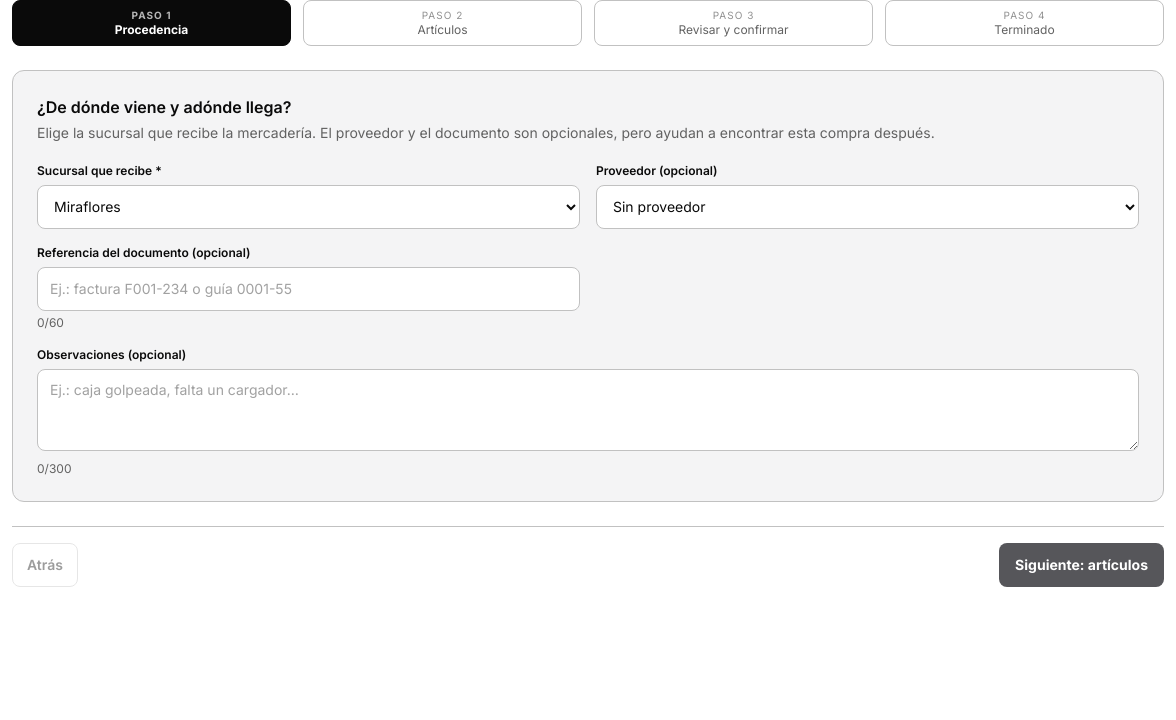
Scenario: paso 2 · Artículos › un producto por cantidad abre un contador con botones grandes
Click the button "Siguiente: artículos" at (1082, 564), box x1=999 y1=542 x2=1164 y2=586
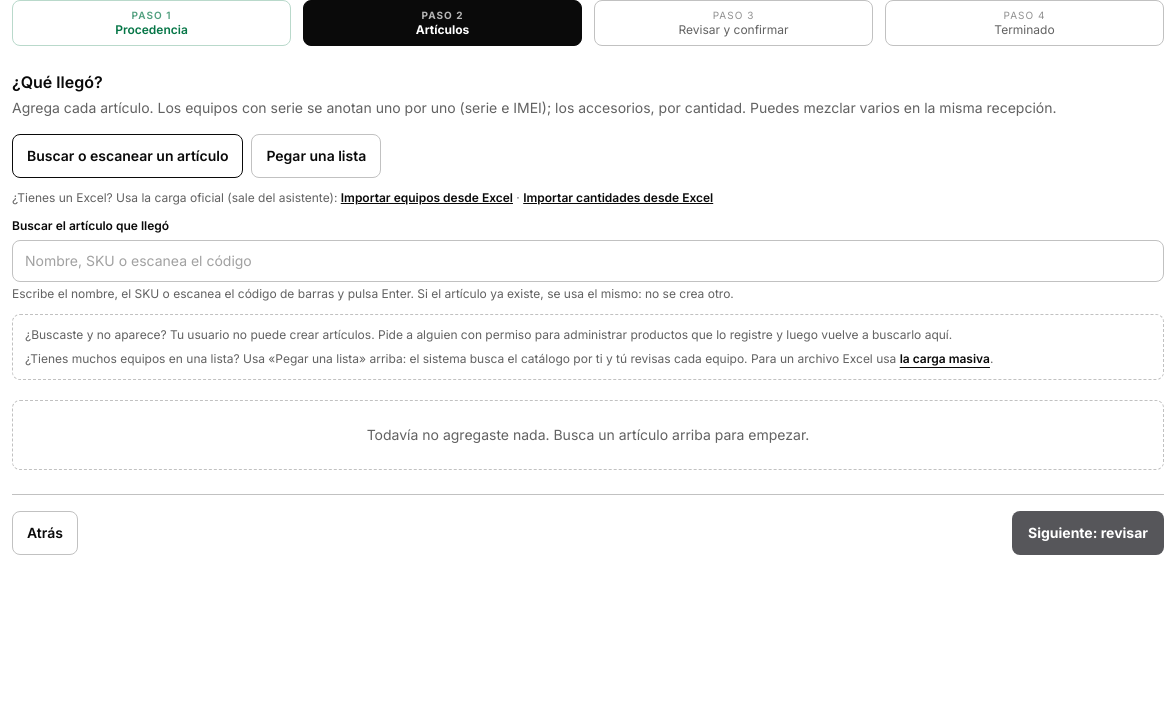
Now the heading "¿Qué llegó?" is shown, box x1=12 y1=72 x2=103 y2=92
Type "Cabl" into the dropdown labelled "Buscar el artículo que llegó" at (588, 260), box x1=12 y1=240 x2=1164 y2=282
Then press Enter
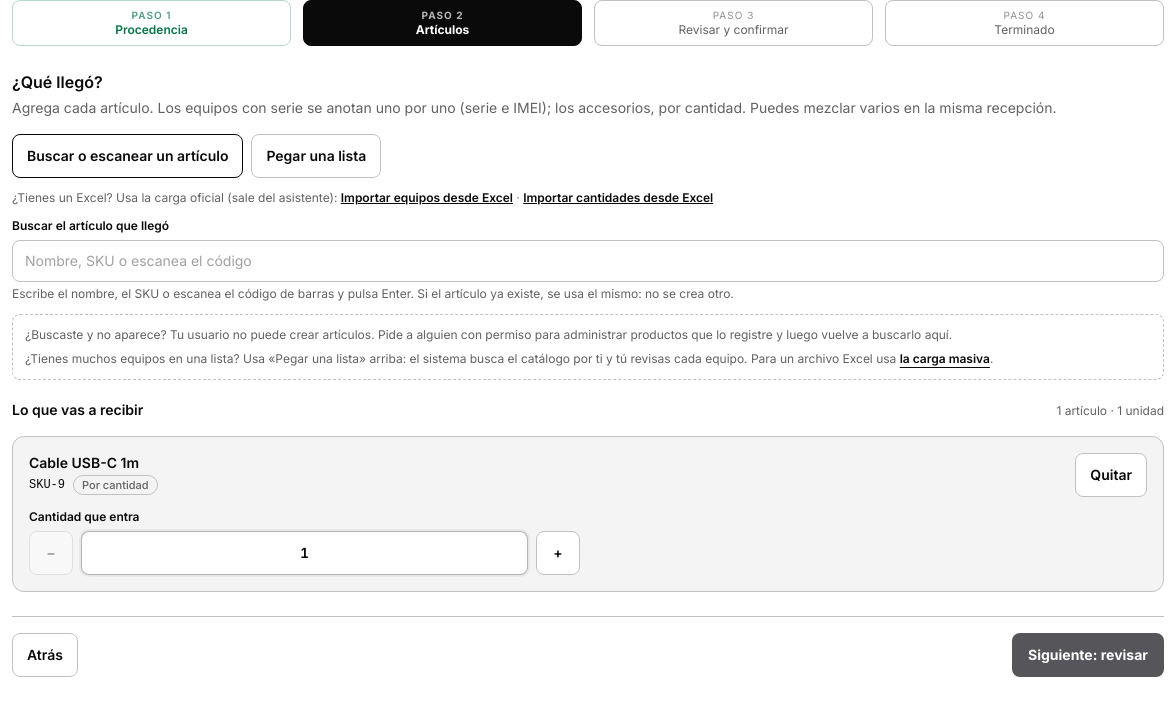
Now the element "Cable USB-C 1m" is shown, box x1=12 y1=436 x2=1164 y2=592
Now the field named "Cantidad" holds "1", box x1=81 y1=530 x2=528 y2=574
Click the button named "Una unidad más" at (558, 552), box x1=536 y1=530 x2=580 y2=574
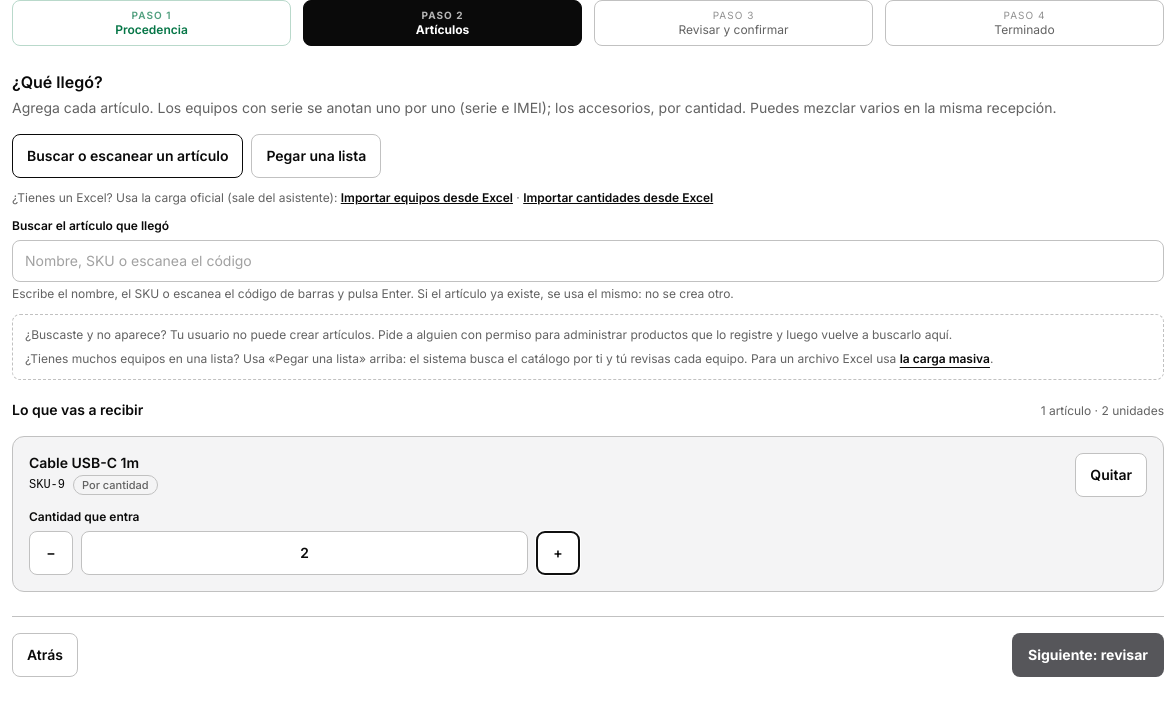
Click the button named "Una unidad más" at (558, 552), box x1=536 y1=530 x2=580 y2=574
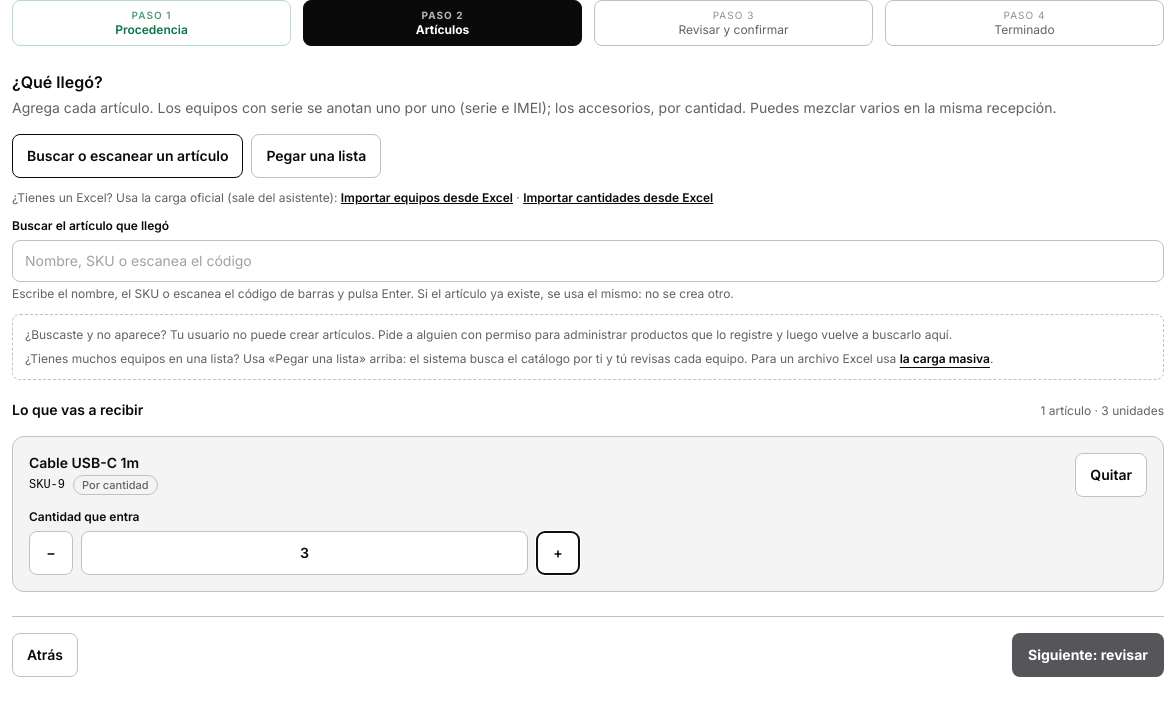
Now the field named "Cantidad" holds "3", box x1=81 y1=530 x2=528 y2=574
Click the button named "Una unidad menos" at (51, 552), box x1=29 y1=530 x2=73 y2=574
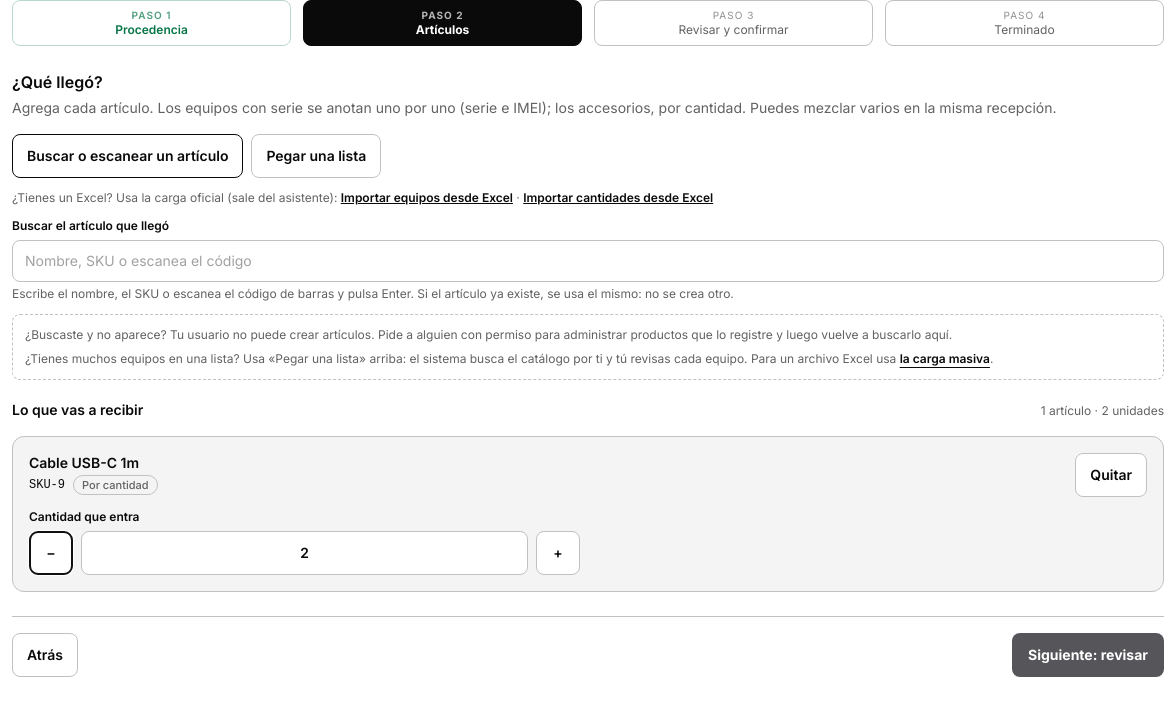
Now the field named "Cantidad" holds "2"
Replace the text in the field named "Cantidad" with "1a2" at (304, 552), box x1=81 y1=530 x2=528 y2=574
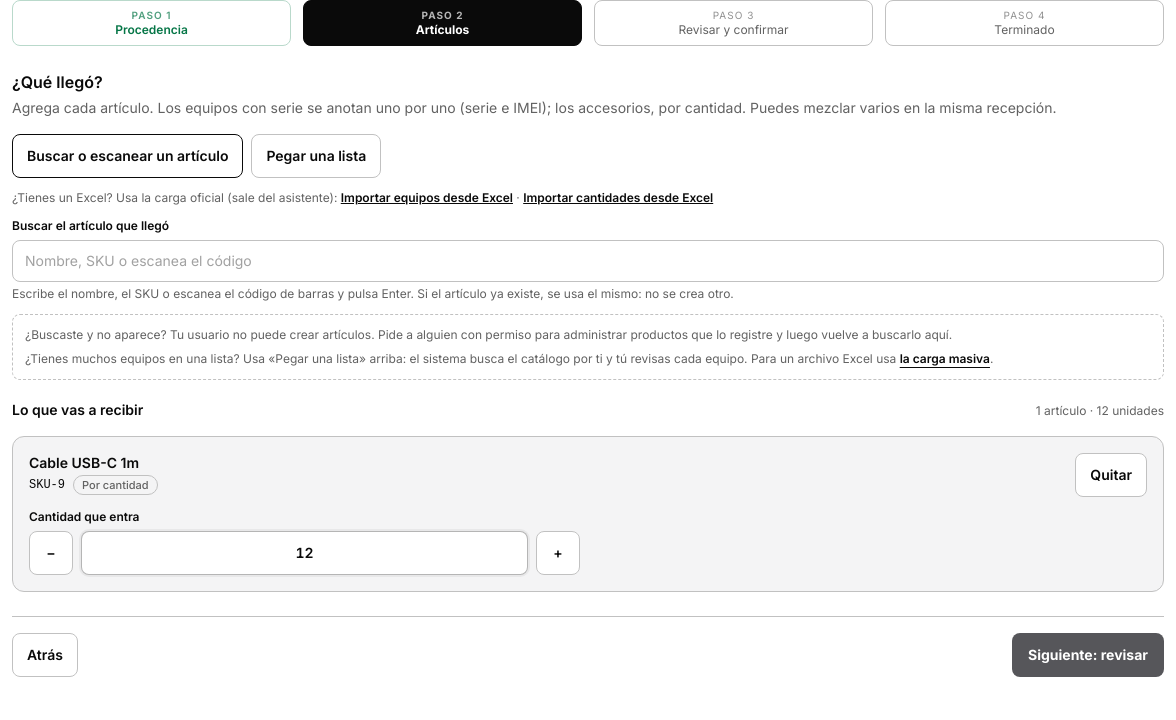
Now the field named "Cantidad" holds "12", box x1=81 y1=530 x2=528 y2=574
